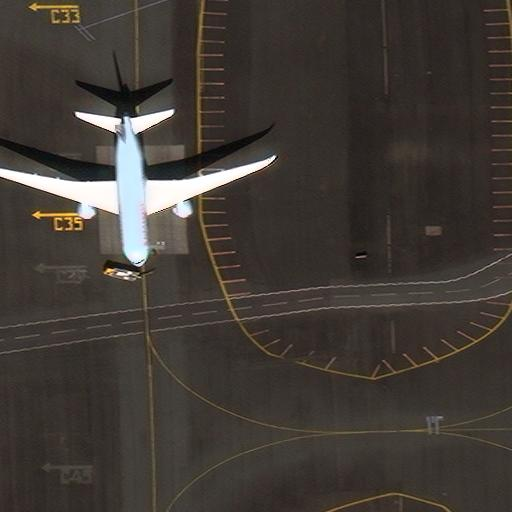Large Civil Transport: (0, 113, 271, 268)
